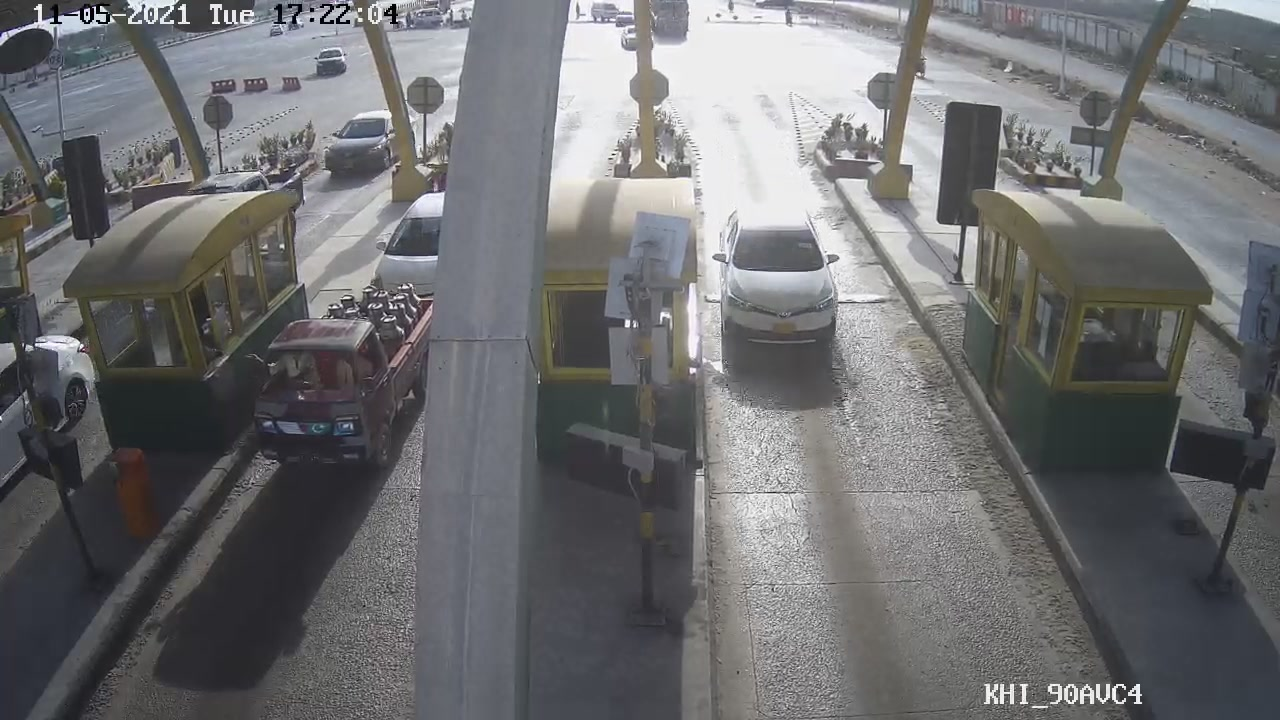F1: (706, 200, 854, 363)
